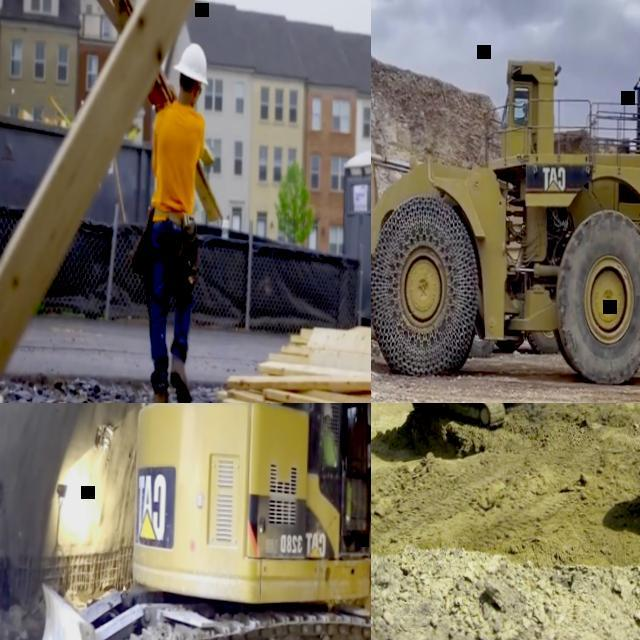helmet: (171, 41, 208, 86), (320, 403, 331, 419)
vest: (320, 428, 338, 468)
